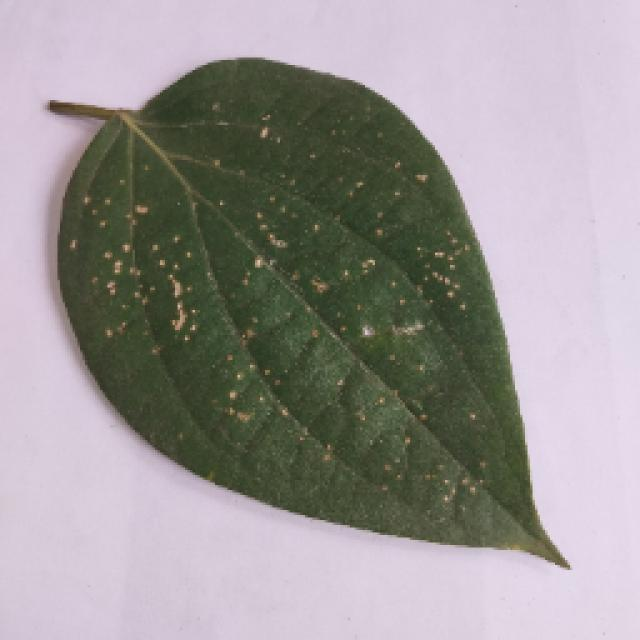pollu-disease: (32, 60, 578, 568)
